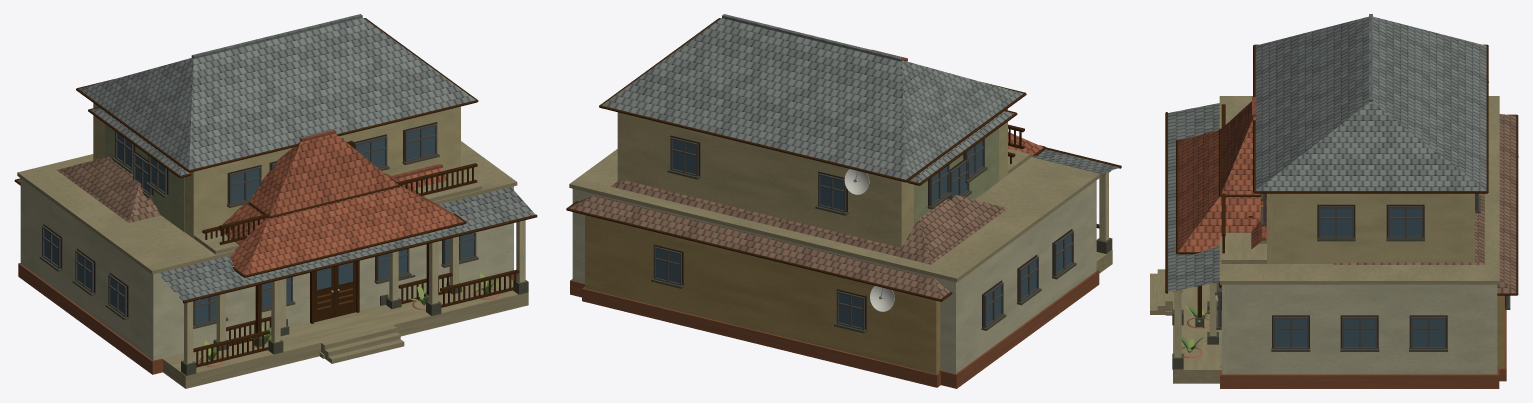
The model's file is houses.glb.
3 renders of one model, left to right at view 1: azimuth 30°, elevation 25°; view 2: azimuth 150°, elevation 25°; view 3: azimuth 270°, elevation 25°, orthographic. The views are drawn at different scales.
Parts seen in each view (by area): view 1: habitable_volume_Charcoal_gray_glazed_tiles (×2), habitable_volume_Ivory_exterior_render, open_pendopo_Weathered_reddish_clay_tiles, house_10_Satin_cement_terrazzo_paving, floor_slab_cap, habitable_volume_Warm_off_white_stucco, roof_tile_courses, house_10_Warm_teak_joinery, habitable_volume_Soot_brown_Javanese_clay_tiles, opaque_glazing (×5), house_10_Cream_sand_plaster, stone_foundation (+9 smaller); view 2: habitable_volume_Charcoal_gray_glazed_tiles (×2), habitable_volume_Buff_village_masonry, habitable_volume_Warm_off_white_stucco, habitable_volume_Soot_brown_Javanese_clay_tiles, habitable_volume_Ivory_exterior_render, floor_slab_cap, stone_foundation (×2), habitable_volume_Warm_teak_joinery (×2), opaque_glazing (×4), habitable_volume_Faded_green_limewash, casement_window_Graphite_window_frames (×3), curved_satellite_reflector (×2) (+4 smaller); view 3: habitable_volume_Charcoal_gray_glazed_tiles, habitable_volume_Ivory_exterior_render, habitable_volume_Warm_off_white_stucco, open_pendopo_Weathered_reddish_clay_tiles, floor_slab_cap, house_10_Satin_cement_terrazzo_paving, opaque_glazing (×5), habitable_volume_Soot_brown_Javanese_clay_tiles, roof_tile_courses, stone_foundation, casement_window_Graphite_window_frames (×5), habitable_volume_Warm_teak_joinery (×2) (+5 smaller).
Part boxes in pixels (x1,y1,x2,y2): habitable_volume_Charcoal_gray_glazed_tiles (×2): (79, 14, 475, 175); habitable_volume_Ivory_exterior_render: (20, 178, 513, 360); open_pendopo_Weathered_reddish_clay_tiles: (219, 130, 463, 275); house_10_Satin_cement_terrazzo_paving: (162, 170, 528, 388); floor_slab_cap: (17, 141, 517, 274); habitable_volume_Warm_off_white_stucco: (93, 103, 460, 238); roof_tile_courses: (158, 187, 535, 300); house_10_Warm_teak_joinery: (183, 163, 537, 367); habitable_volume_Soot_brown_Javanese_clay_tiles: (17, 156, 160, 222); opaque_glazing (×5): (195, 126, 435, 323); house_10_Cream_sand_plaster: (184, 220, 525, 363); stone_foundation: (18, 263, 514, 374); habitable_volume_Charcoal_gray_glazed_tiles (×2): (602, 14, 1023, 182); habitable_volume_Buff_village_masonry: (585, 215, 940, 374); habitable_volume_Warm_off_white_stucco: (617, 109, 1007, 247); habitable_volume_Soot_brown_Javanese_clay_tiles: (569, 180, 1007, 298); habitable_volume_Ivory_exterior_render: (572, 180, 1096, 373); floor_slab_cap: (569, 149, 1100, 282); stone_foundation (×2): (570, 270, 1099, 388); habitable_volume_Warm_teak_joinery (×2): (566, 18, 1026, 301); opaque_glazing (×4): (656, 140, 862, 327); habitable_volume_Faded_green_limewash: (914, 128, 998, 224); casement_window_Graphite_window_frames (×3): (653, 137, 864, 330); curved_satellite_reflector (×2): (844, 169, 894, 311); habitable_volume_Charcoal_gray_glazed_tiles: (1255, 14, 1486, 190); habitable_volume_Ivory_exterior_render: (1222, 284, 1497, 374); habitable_volume_Warm_off_white_stucco: (1267, 193, 1474, 263); open_pendopo_Weathered_reddish_clay_tiles: (1178, 97, 1266, 251); floor_slab_cap: (1219, 96, 1499, 284); house_10_Satin_cement_terrazzo_paving: (1150, 125, 1266, 383); opaque_glazing (×5): (1275, 208, 1444, 347); habitable_volume_Soot_brown_Javanese_clay_tiles: (1334, 114, 1516, 293); roof_tile_courses: (1168, 103, 1219, 291); stone_foundation: (1220, 337, 1499, 388); casement_window_Graphite_window_frames (×5): (1273, 206, 1446, 348); habitable_volume_Warm_teak_joinery (×2): (1253, 44, 1518, 295).
Bounding box in the file's own units: 13.83 × 8.5 × 11.46.
Materials: 26 (16 with a texture image).
